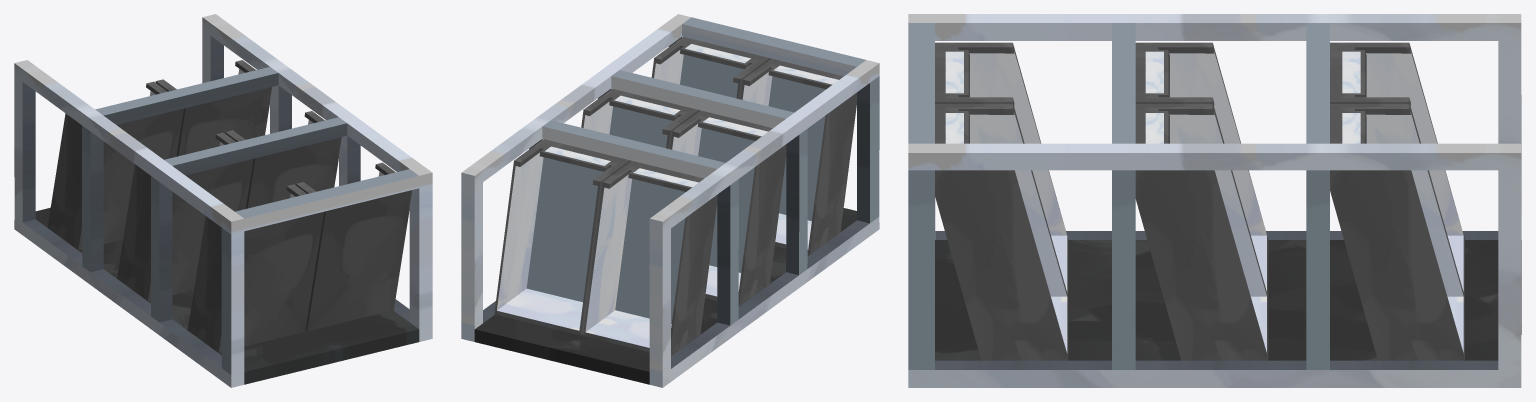
The model's file is Basket shelf ver2.fbx.
3 renders of one model, left to right at view 1: azimuth 30°, elevation 25°; view 2: azimuth 150°, elevation 25°; view 3: azimuth 270°, elevation 25°, orthographic. The views are drawn at different scales.
Parts seen in each view (by area): view 1: Rack, orange basket slanted.003; view 2: orange basket slanted.003, Rack; view 3: Rack, orange basket slanted.003.
Part boxes in pixels (x1,y1,x2,y2): Rack: [14, 14, 432, 387]; orange basket slanted.003: [47, 60, 412, 352]; orange basket slanted.003: [494, 37, 856, 355]; Rack: [461, 14, 879, 387]; Rack: [908, 14, 1521, 387]; orange basket slanted.003: [935, 42, 1464, 360].
Bounding box in the file's own units: 2439 × 1924 × 4548.
Materials: 2 (2 with a texture image).
